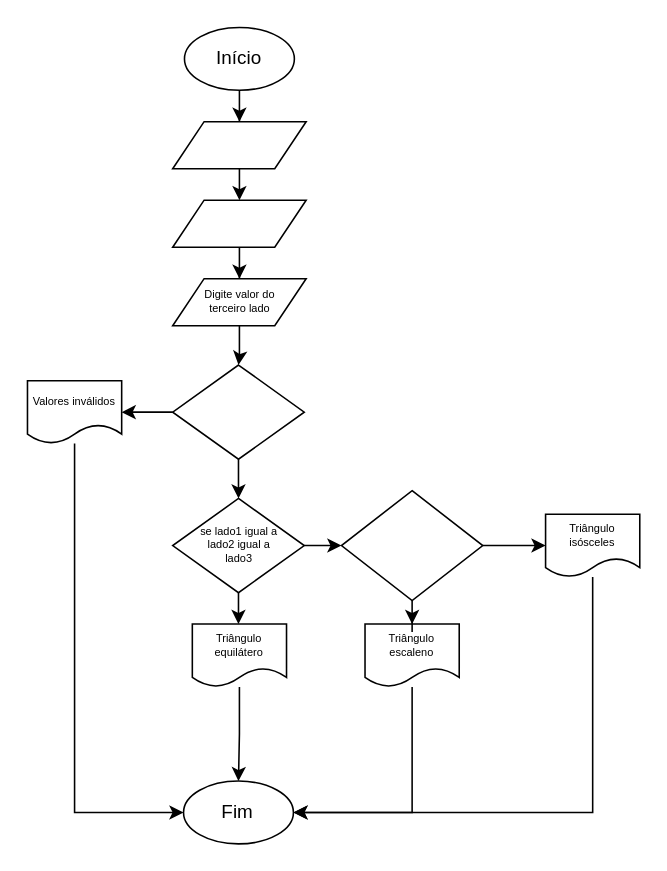
This 667x871 diagram has some shape labels left out. Here are the shapes that lost their labels. From the top down, the centre of each, then its label:
(x=238, y=144): Digite valor do primeiro lado
(x=238, y=223): Digite valor do segundo lado
(x=237, y=411): Se triângulo existe
(x=411, y=545): se lado1 diferente de lado2 diferente de lado3
